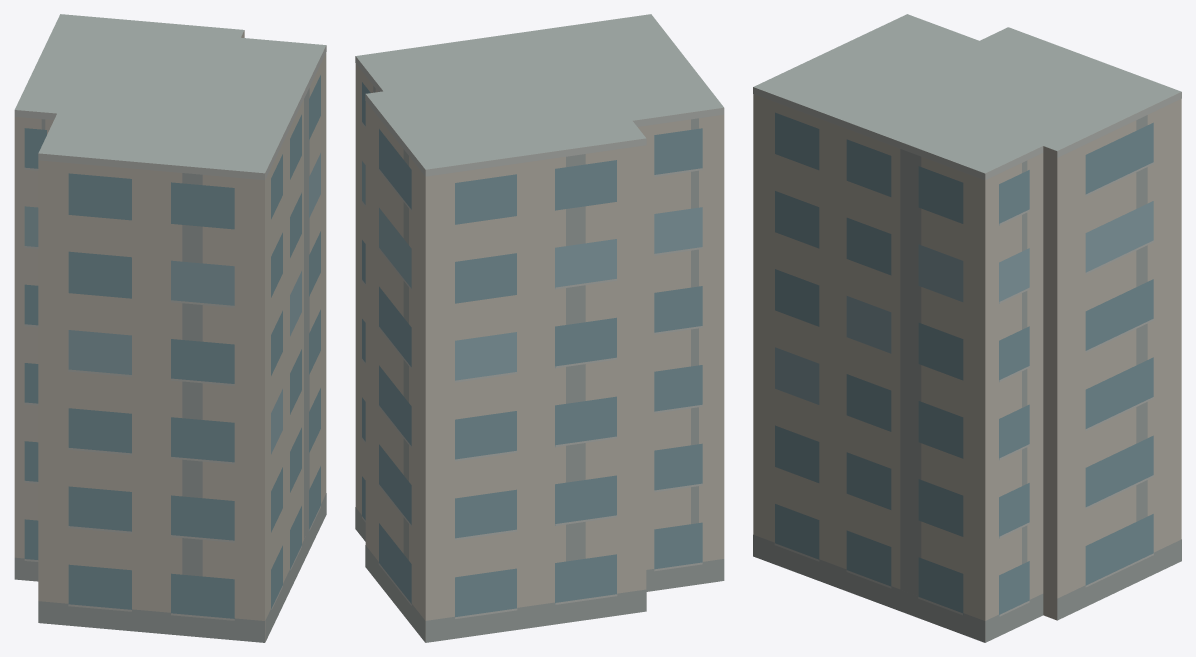
The model's file is survey-upis-33003823.glb.
The picture shows the model from 3 angles, left to right: view 1: azimuth 30°, elevation 25°; view 2: azimuth 150°, elevation 25°; view 3: azimuth 270°, elevation 25°; orthographic projection.
Parts seen in each view (by area): view 1: survey-upis-33003823.tmp; view 2: survey-upis-33003823.tmp; view 3: survey-upis-33003823.tmp.
Part boxes in pixels (bbox=[...]): survey-upis-33003823.tmp: bbox=[14, 14, 326, 642]; survey-upis-33003823.tmp: bbox=[355, 14, 724, 642]; survey-upis-33003823.tmp: bbox=[753, 14, 1181, 642].
Size of the model in its own units: 12.11 by 16.6 by 13.75.
